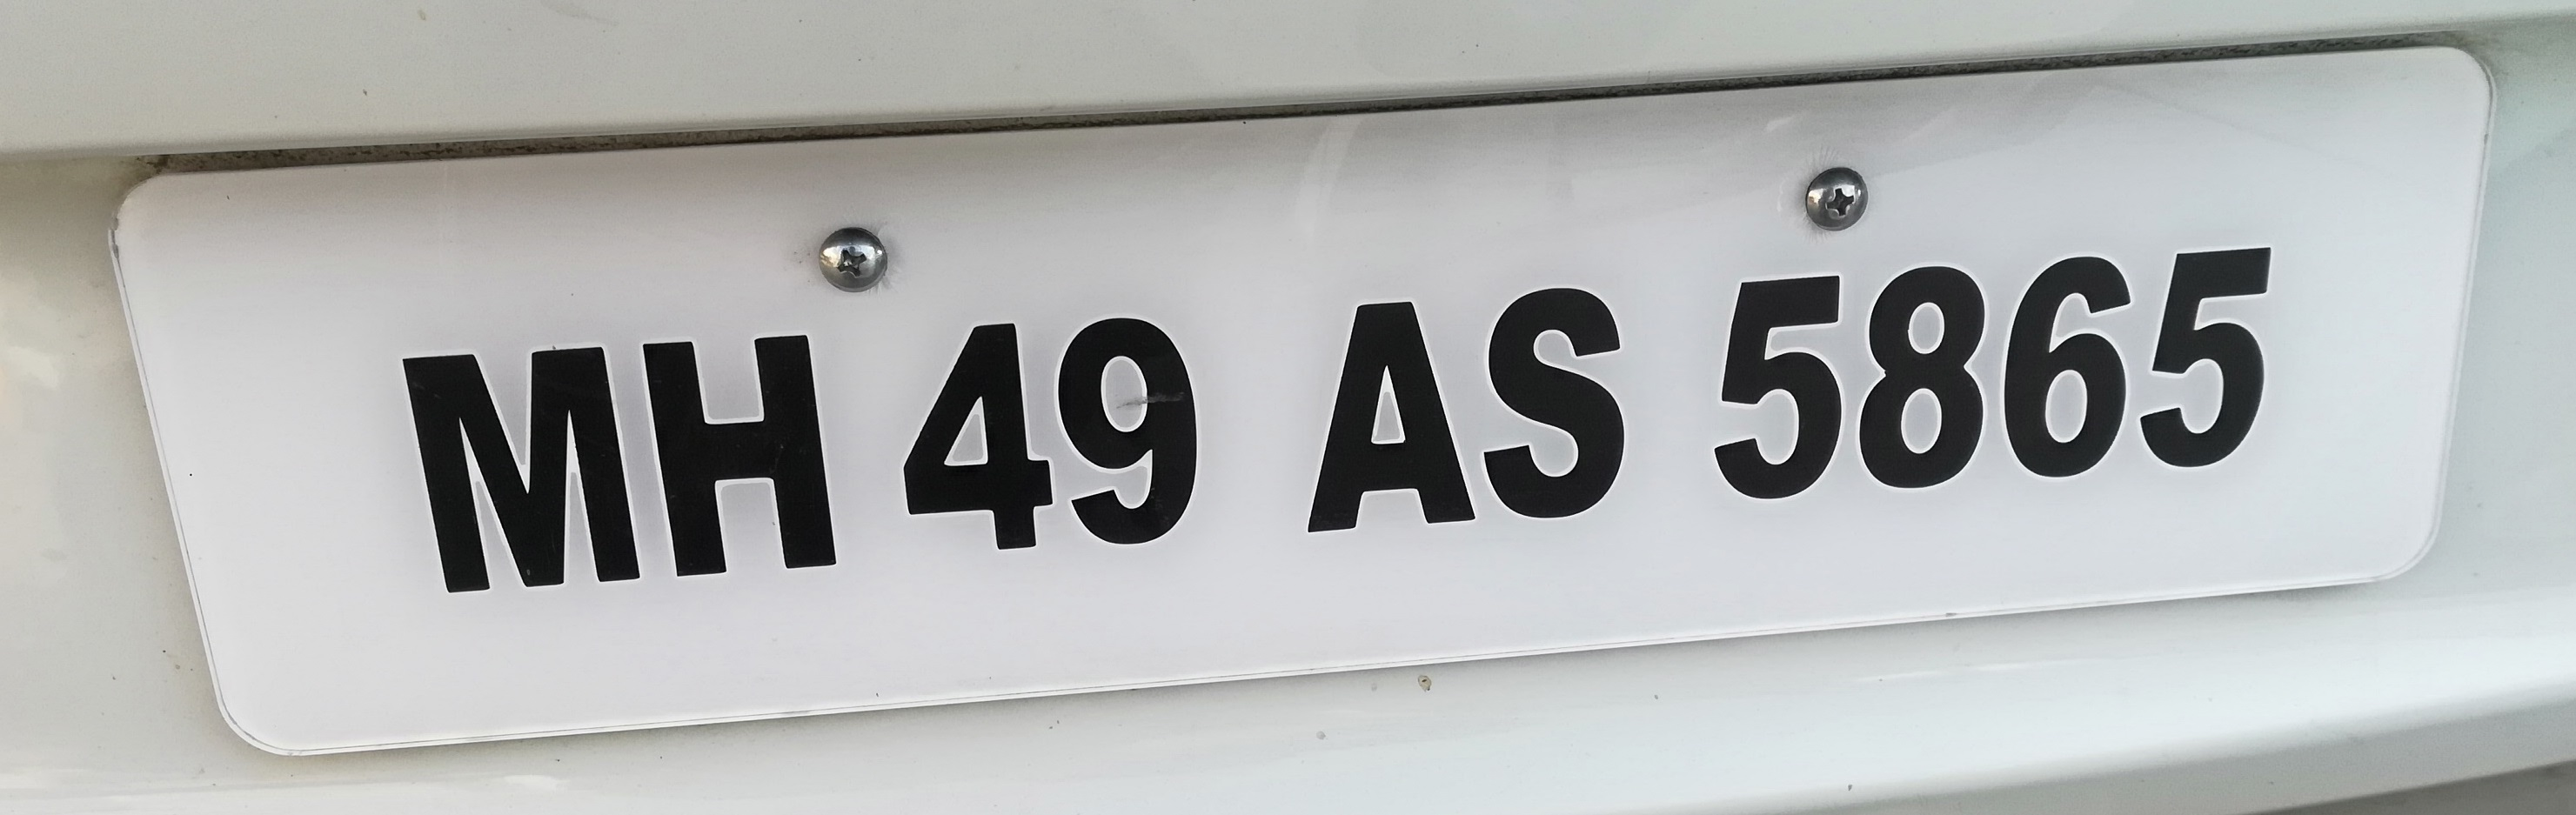numberplate: (110, 16, 2491, 766)
